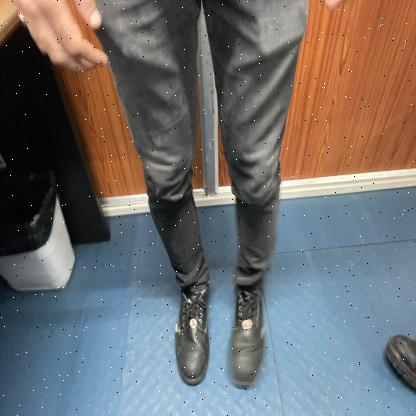bota: (225, 280, 266, 391), (175, 282, 211, 388)
